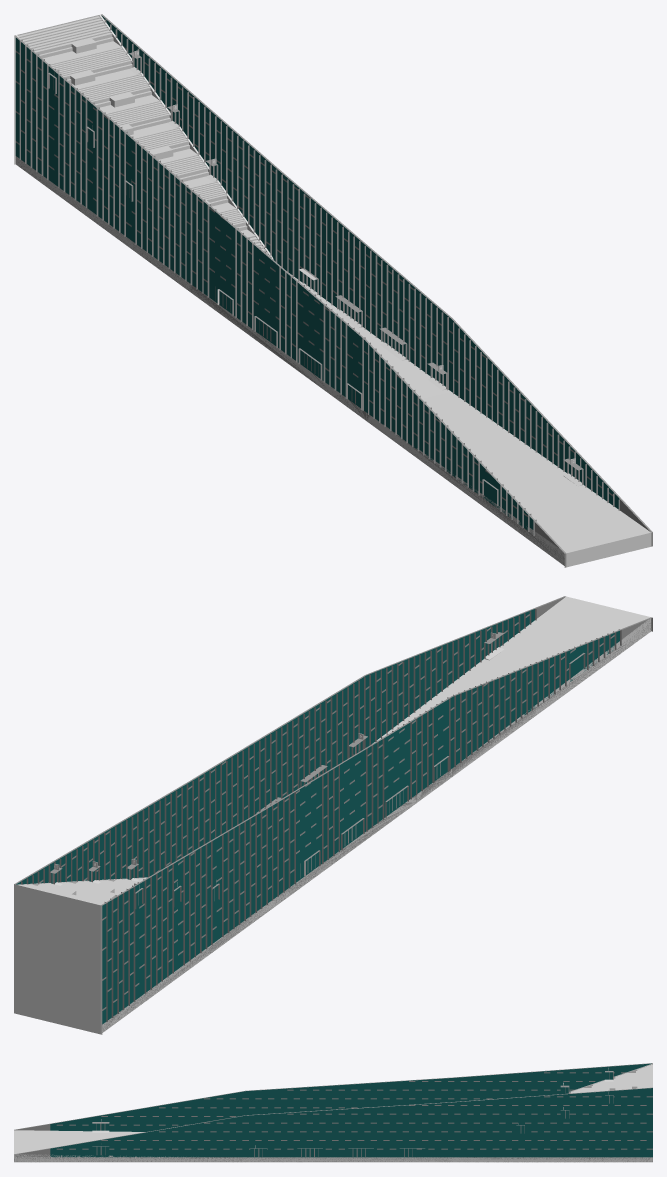
Rendered from eccbuilding.fbx.
3 views of the same model, one above another, from view 1: azimuth 30°, elevation 25°; view 2: azimuth 150°, elevation 25°; view 3: azimuth 270°, elevation 25° (orthographic). The views are drawn at different scales.
Parts seen in each view (by area): view 1: MeshChunk (×6); view 2: MeshChunk (×5); view 3: MeshChunk (×5).
Part boxes in pixels (x1,y1,x2,y2): MeshChunk (×6): (14, 14, 652, 567); MeshChunk (×5): (14, 596, 652, 1034); MeshChunk (×5): (14, 1063, 652, 1162).
Size of the model in its own units: 3.55 by 38.28 by 4.95.
